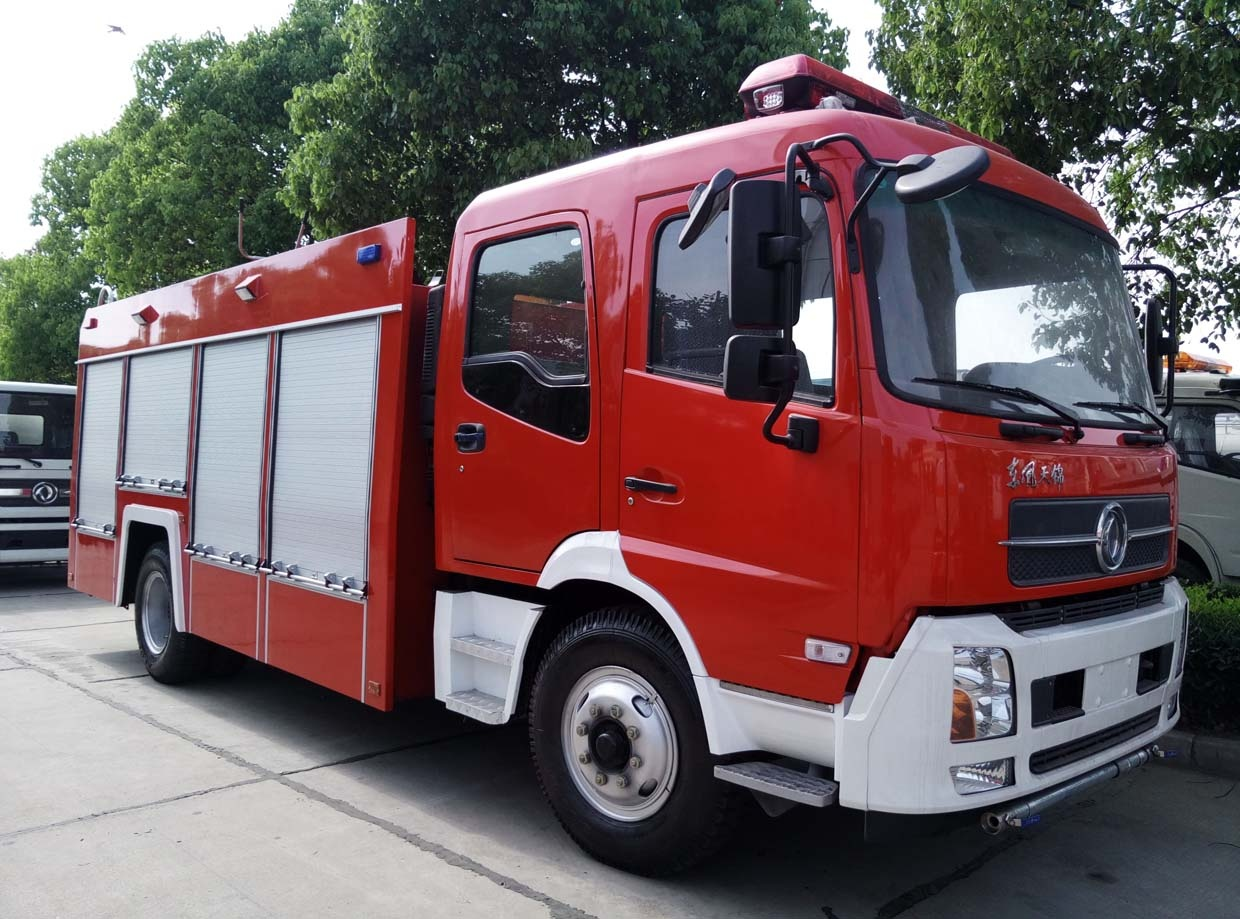fire engine: (62, 98, 1190, 875)
